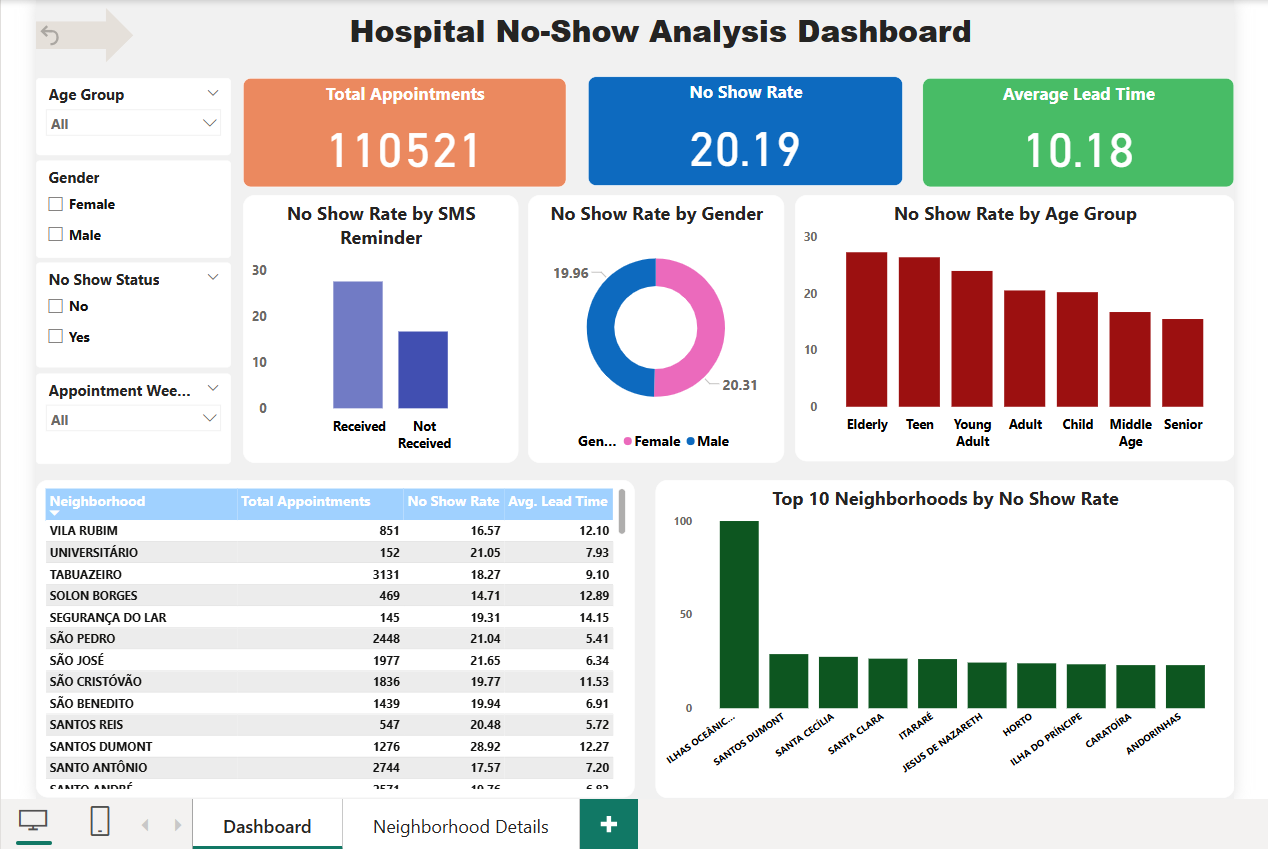

The page's visual inventory and layout, read from the dashboard file:
{"tool":"powerbi","page":{"name":"Dashboard","canvas":[1500,1000],"ordinal":0},"visuals":[{"type":"card","title":"Total Appointments","fields":{"Values":["CountNonNull(hospital_db hospital_appointments.appointmentid)"]},"box":[258.8,98.4,404.6,136.7],"z":0},{"type":"columnChart","title":"No Show Rate by Age Group","fields":{"Category":["hospital_appointments.age_group"],"Y":["Measures (2).NoShowRateAge"]},"box":[949.6,244.2,550.4,333.5],"z":1000},{"type":"donutChart","title":"No Show Rate by Gender","fields":{"Category":["hospital_appointments.Genderr"],"Y":["Measures (2).NoShowRate"]},"box":[616.1,244.2,320.8,335.4],"z":2000},{"type":"columnChart","title":"No Show Rate by SMS Reminder","fields":{"Category":["hospital_appointments.SMS_Status"],"Y":["Measures (2).NoShowRate"]},"box":[258.8,244.2,344.5,335.4],"z":3000},{"type":"columnChart","title":"Top 10 Neighborhoods by No Show Rate","fields":{"Category":["hospital_appointments.neighbourhood"],"Y":["Measures (2).NoShowRate"]},"box":[775.4,600.8,724.7,398],"z":4000},{"type":"textbox","box":[122.1,5.5,1319.6,78.4],"z":5000},{"type":"card","title":"No Show Rate","fields":{"Values":["Measures (2).NoShow Rate %"]},"box":[690.8,96.6,393.7,136.7],"z":6000},{"type":"card","title":"Average Lead Time","fields":{"Values":["Measures (2).AvgLeadTime"]},"box":[1109.9,98.4,390,136.7],"z":7000},{"type":"slicer","title":"Age Group","fields":{"Values":["hospital_appointments.age_group"]},"box":[0,98.4,244.2,96.6],"z":8000},{"type":"slicer","title":"Gender","fields":{"Values":["hospital_appointments.Genderr"]},"box":[0,200.5,244.2,122.1],"z":9000},{"type":"slicer","title":"No Show Status","fields":{"Values":["hospital_appointments.no_show_status"]},"box":[0,328.1,244.2,131.2],"z":10000},{"type":"slicer","title":"Appointment Days","fields":{"Values":["hospital_appointments.appointment_weekday"]},"box":[0,466.6,244.2,113],"z":11000},{"type":"tableEx","fields":{"Values":["hospital_appointments.neighbourhood","hospital_appointments.appointmentid","Measures (2).NoShowRate","Measures (2).AvgLeadTime"]},"box":[0,601.5,749.1,397.3],"z":12000},{"type":"actionButton","box":[0,9.1,122.1,69.3],"z":13000}]}

Visuals, with their boxes on the page's 1500x1000 design canvas (x1, y1, x2, y2). These are canvas units, not pixel positions in the 1268x849 screenshot, which may show the page scaled, cropped or inside an application window:
"Total Appointments" card: x1=259 y1=98 x2=663 y2=235
"No Show Rate by Age Group" columnChart: x1=950 y1=244 x2=1500 y2=578
"No Show Rate by Gender" donutChart: x1=616 y1=244 x2=937 y2=580
"No Show Rate by SMS Reminder" columnChart: x1=259 y1=244 x2=603 y2=580
"Top 10 Neighborhoods by No Show Rate" columnChart: x1=775 y1=601 x2=1500 y2=999
textbox: x1=122 y1=6 x2=1442 y2=84
"No Show Rate" card: x1=691 y1=97 x2=1084 y2=233
"Average Lead Time" card: x1=1110 y1=98 x2=1500 y2=235
"Age Group" slicer: x1=0 y1=98 x2=244 y2=195
"Gender" slicer: x1=0 y1=200 x2=244 y2=323
"No Show Status" slicer: x1=0 y1=328 x2=244 y2=459
"Appointment Days" slicer: x1=0 y1=467 x2=244 y2=580
tableEx - hospital_appointments.neighbourhood x hospital_appointments.appointmentid: x1=0 y1=602 x2=749 y2=999
actionButton: x1=0 y1=9 x2=122 y2=78
